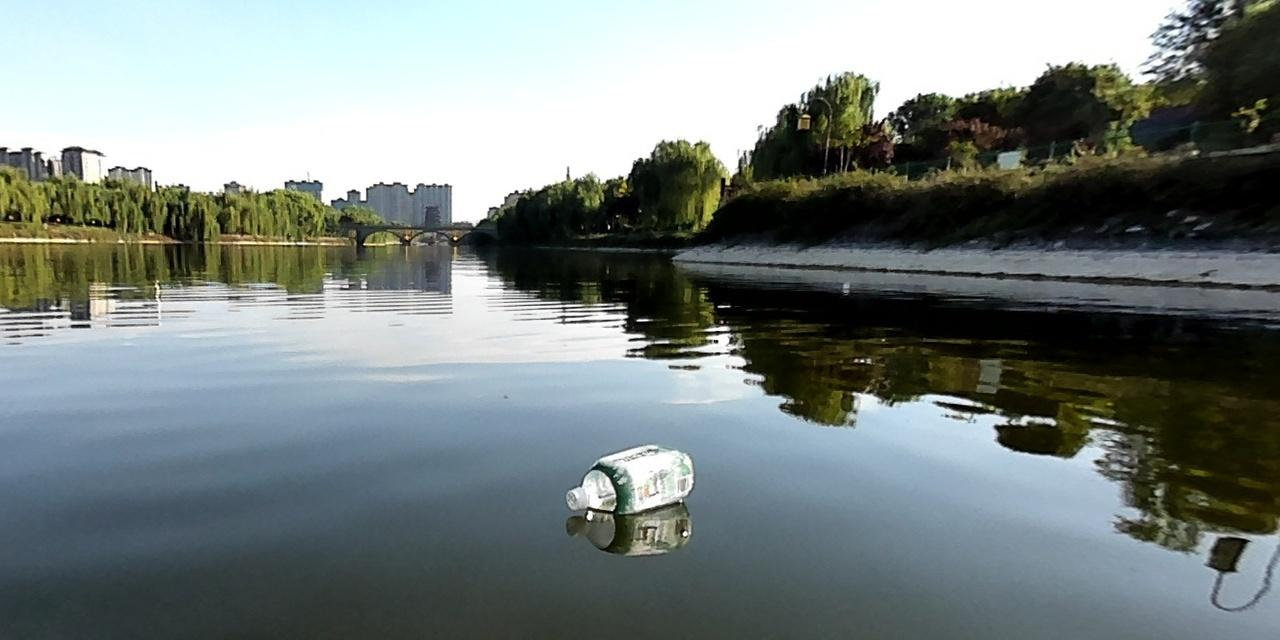bottle: (558, 438, 694, 519)
